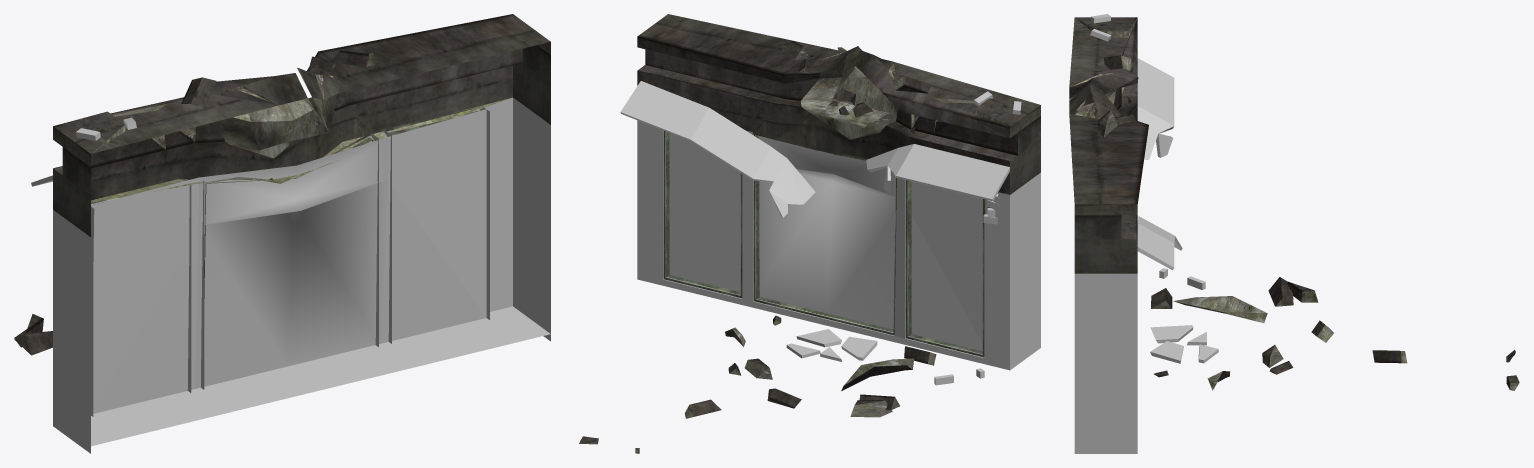
File: Store_front_16_A.fbx
3 views of the same model, side by side, from view 1: azimuth 30°, elevation 25°; view 2: azimuth 150°, elevation 25°; view 3: azimuth 270°, elevation 25° (orthographic). The views are drawn at different scales.
Visible parts, largest first — view 1: Store_front_16_A; view 2: Store_front_16_A; view 3: Store_front_16_A.
Part boxes in pixels (left/top/right/bottom): Store_front_16_A: left=14, top=14, right=550, bottom=453; Store_front_16_A: left=579, top=14, right=1040, bottom=453; Store_front_16_A: left=1069, top=14, right=1519, bottom=453.
Size of the model in its own units: 700 by 479 by 713.
